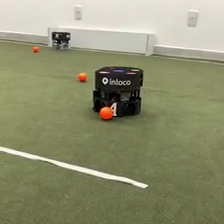ball: (98, 105, 114, 121), (77, 71, 87, 81), (31, 44, 40, 52)
goal: (46, 25, 156, 57)
robot: (91, 64, 145, 117), (50, 29, 72, 51)
